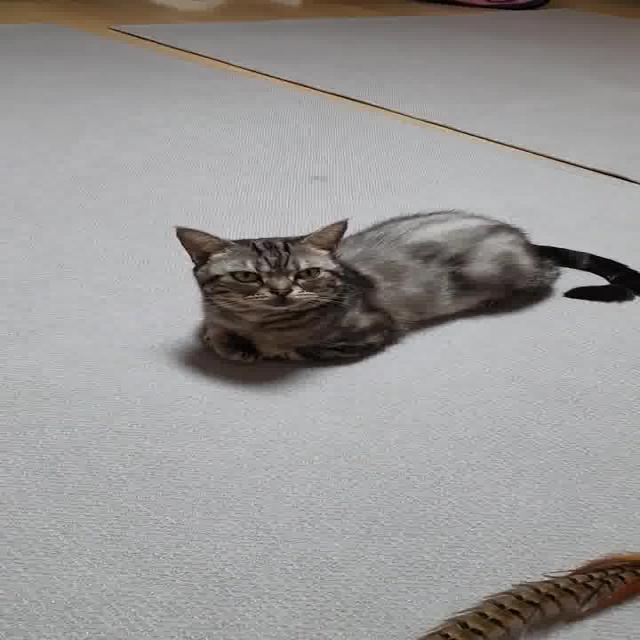cat: (143, 202, 640, 376)
